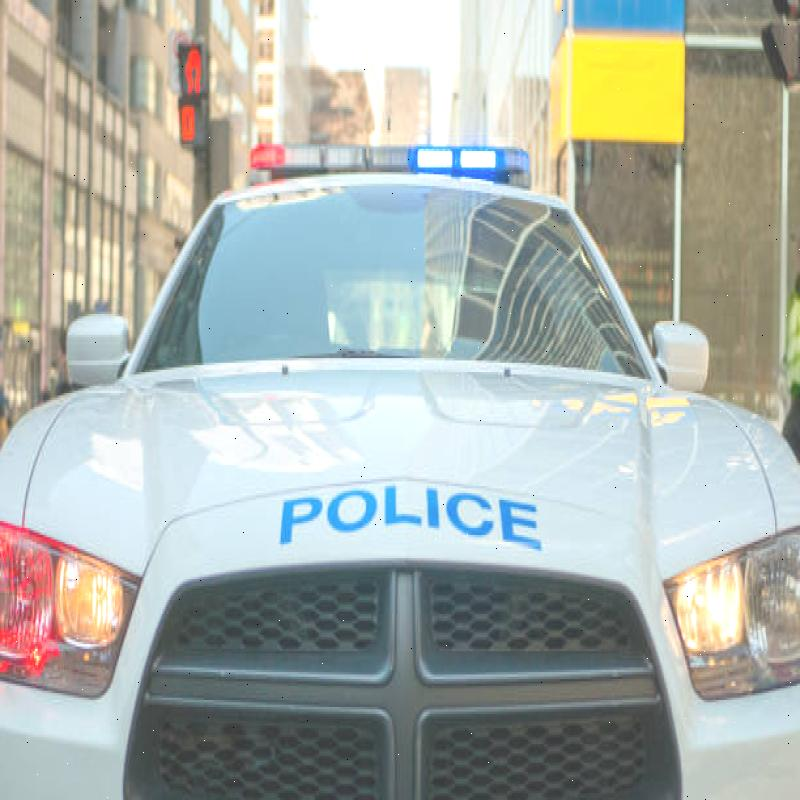AmbulanceSiren: (216, 124, 534, 192)
